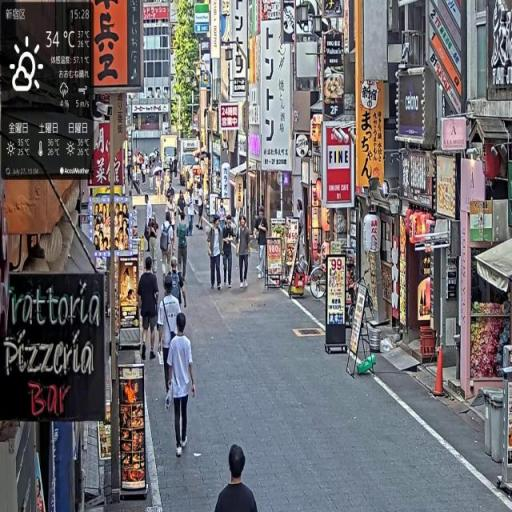person: (166, 311, 198, 461), (158, 277, 183, 408), (215, 446, 258, 512), (137, 256, 161, 363), (207, 216, 225, 292), (167, 255, 189, 314), (176, 212, 191, 289), (237, 217, 252, 289), (222, 214, 236, 291), (256, 207, 270, 282)
